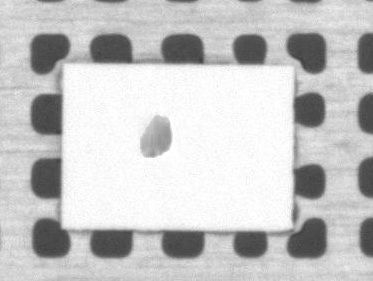DIE_INK: (137, 113, 172, 159)
